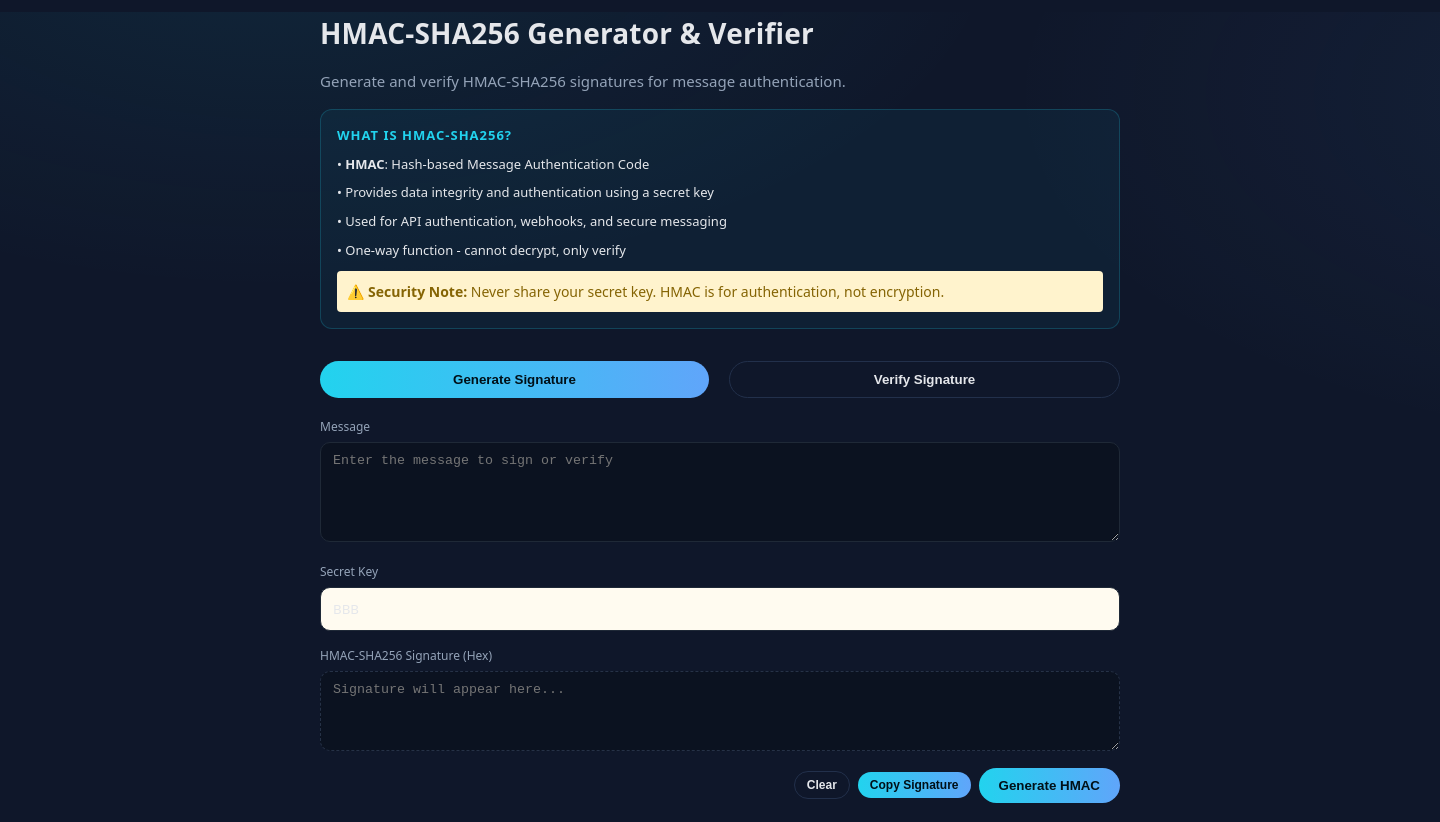
HmacSha256Tool › shows error when secret key is empty
Type "Test" into the text box labelled "Message" at (720, 492), box [320,442,1120,542]
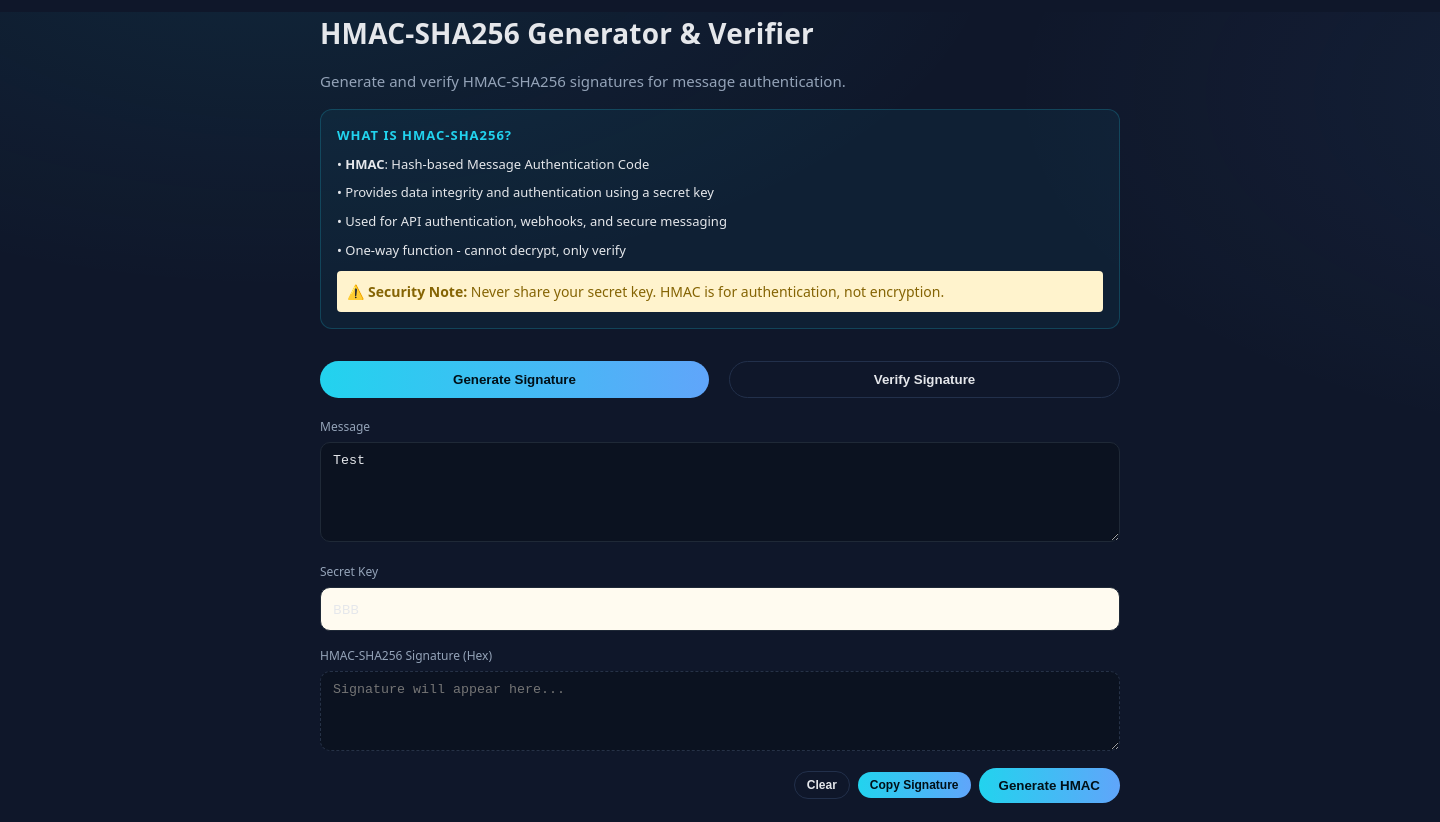
Clear the field labelled "Secret Key" at (720, 609), box [320,587,1120,631]
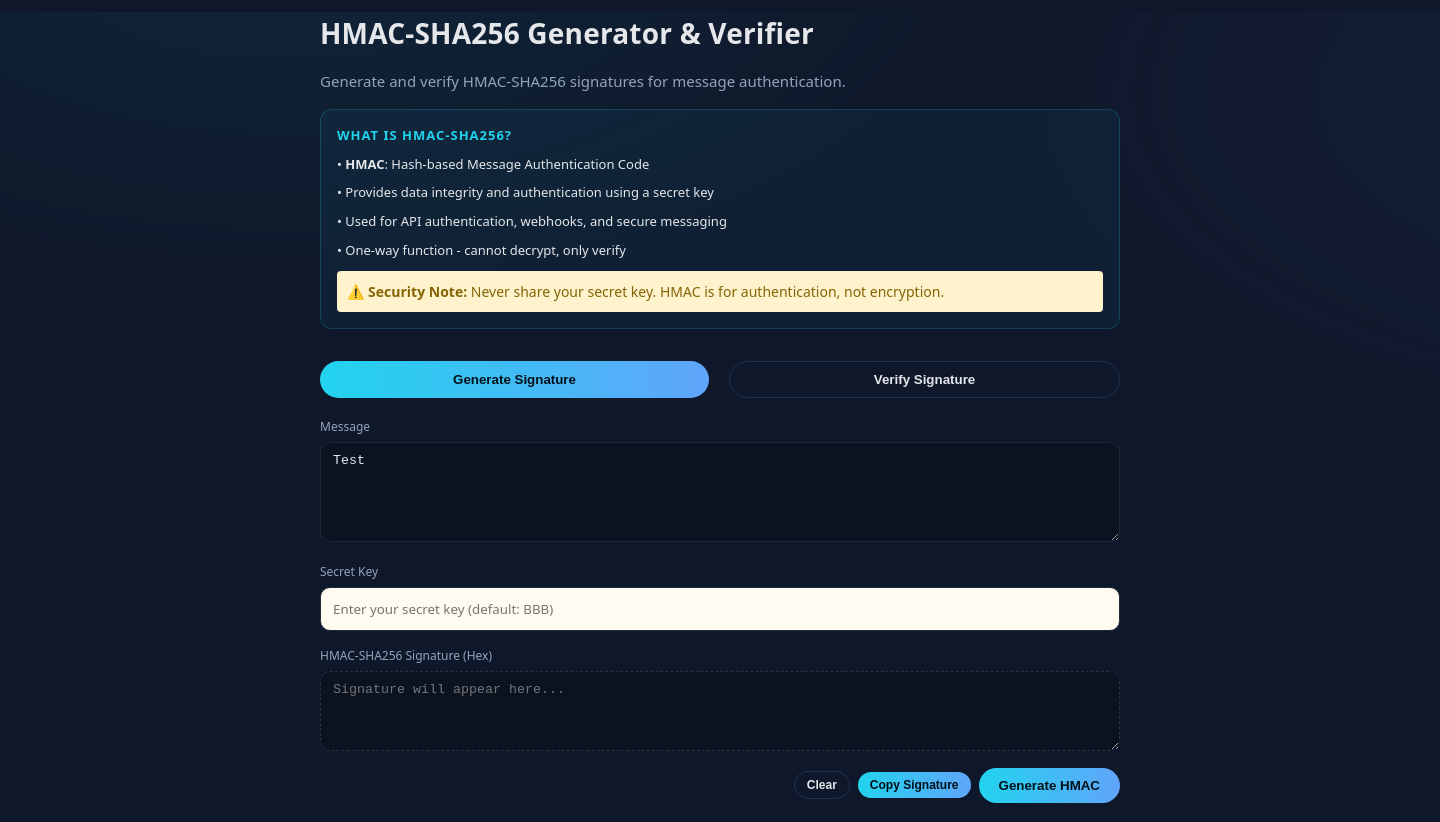
Click the button "Generate HMAC" at (1049, 785), box [978,768,1120,803]
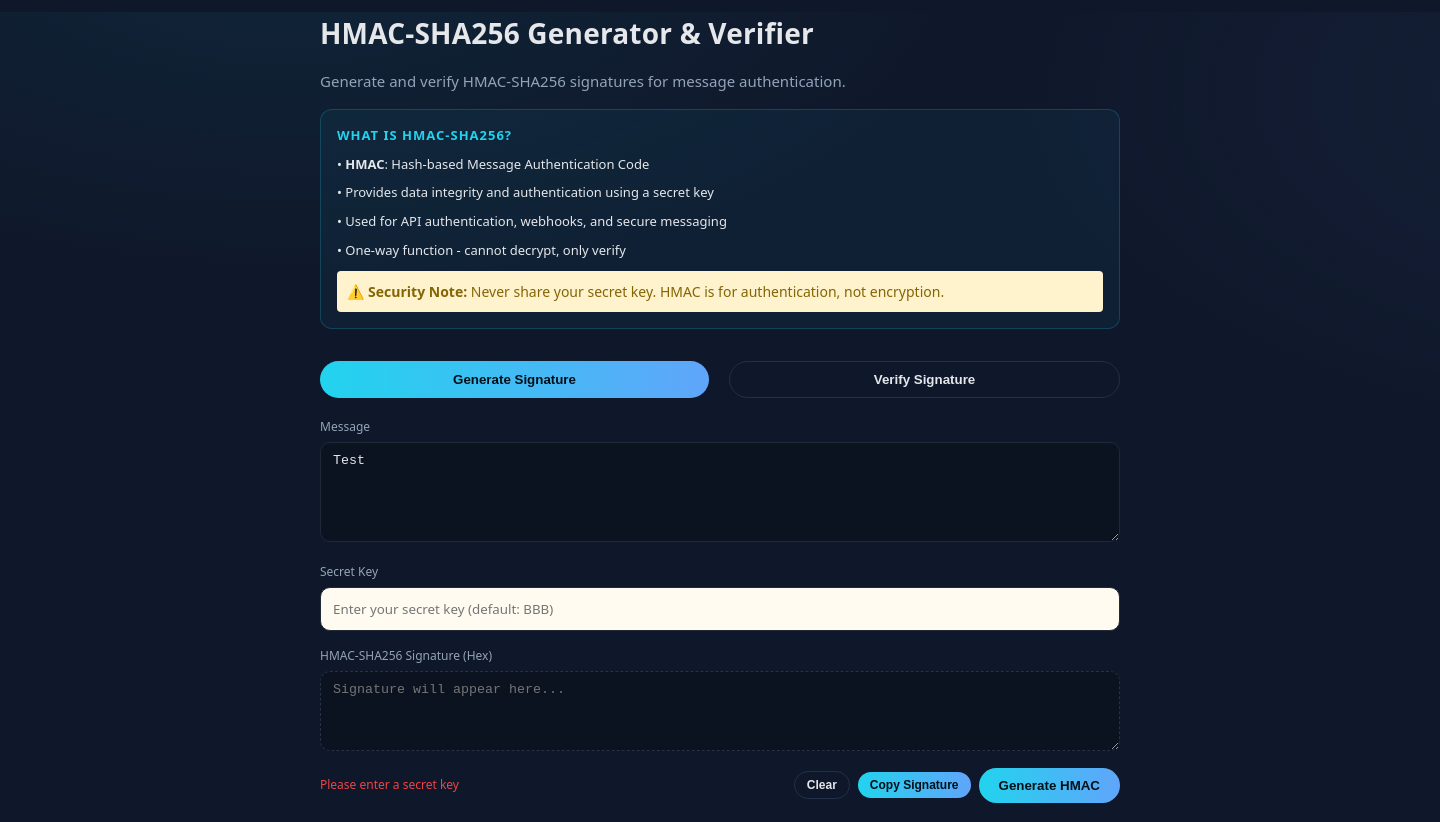
Now the text "Please enter a secret key" is shown, box [320,776,459,794]
